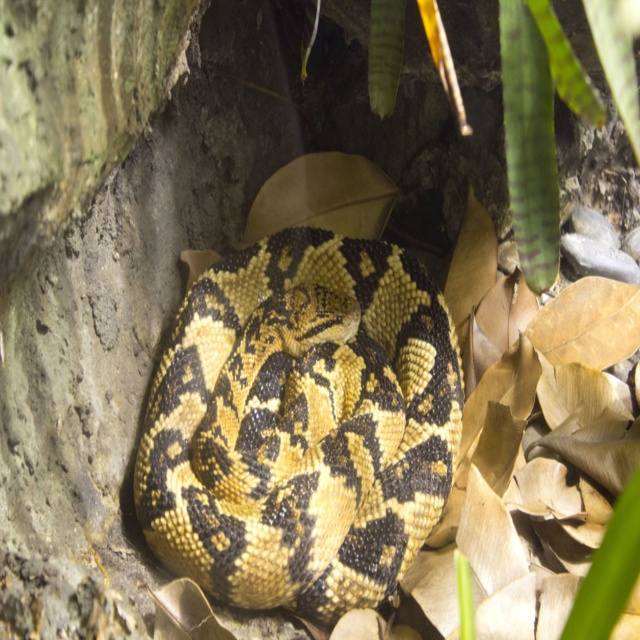Snake: (129, 194, 468, 609)
